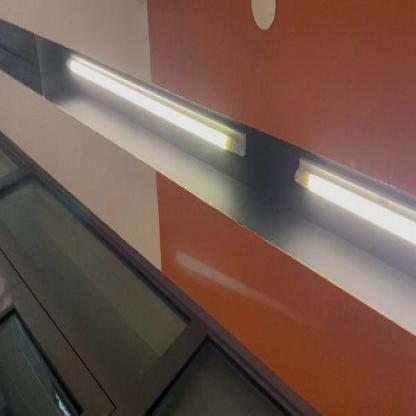light_on: (57, 42, 251, 176), (278, 143, 416, 256)
